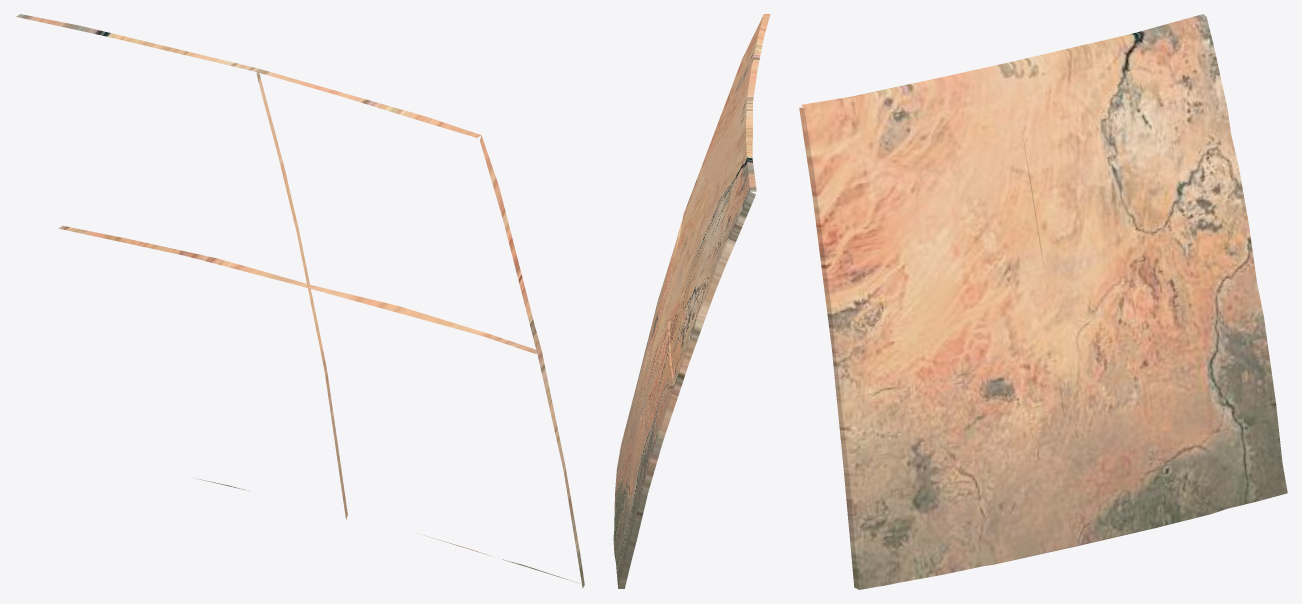
The picture shows the model from 3 angles, left to right: view 1: azimuth 30°, elevation 25°; view 2: azimuth 150°, elevation 25°; view 3: azimuth 270°, elevation 25°; orthographic projection. The views are drawn at different scales.
Bounding box in the file's own units: 898955 × 1206884 × 1240496.
1 material, 1 textured.
